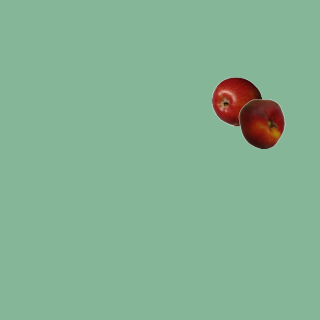Apple Braeburn: (211, 76, 261, 126)
Nectarine Flat: (236, 98, 286, 148)
